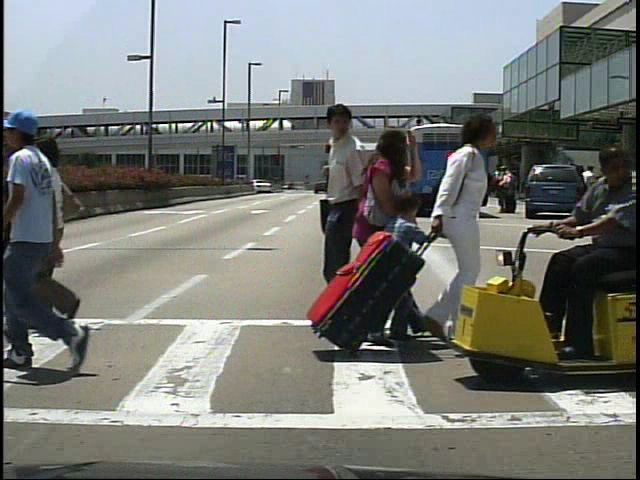person: (13, 105, 121, 388), (315, 101, 410, 349), (545, 149, 640, 361), (416, 108, 503, 333), (353, 123, 419, 354), (19, 133, 84, 331), (384, 184, 429, 318), (582, 163, 602, 218), (498, 166, 516, 219), (498, 164, 517, 214)
